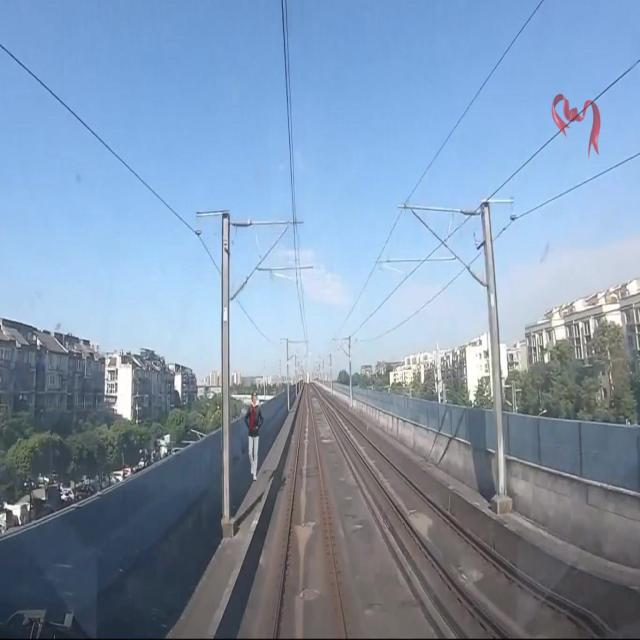floating object: (548, 88, 601, 158)
